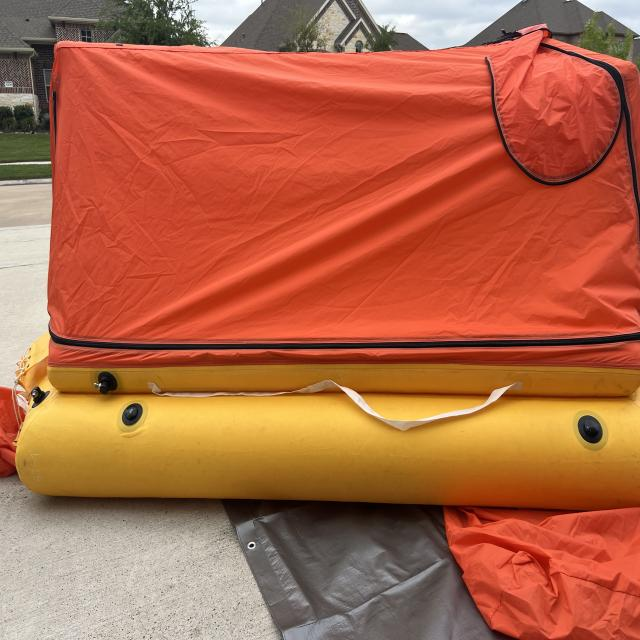Multi-person_life_raft: (1, 21, 640, 639)
